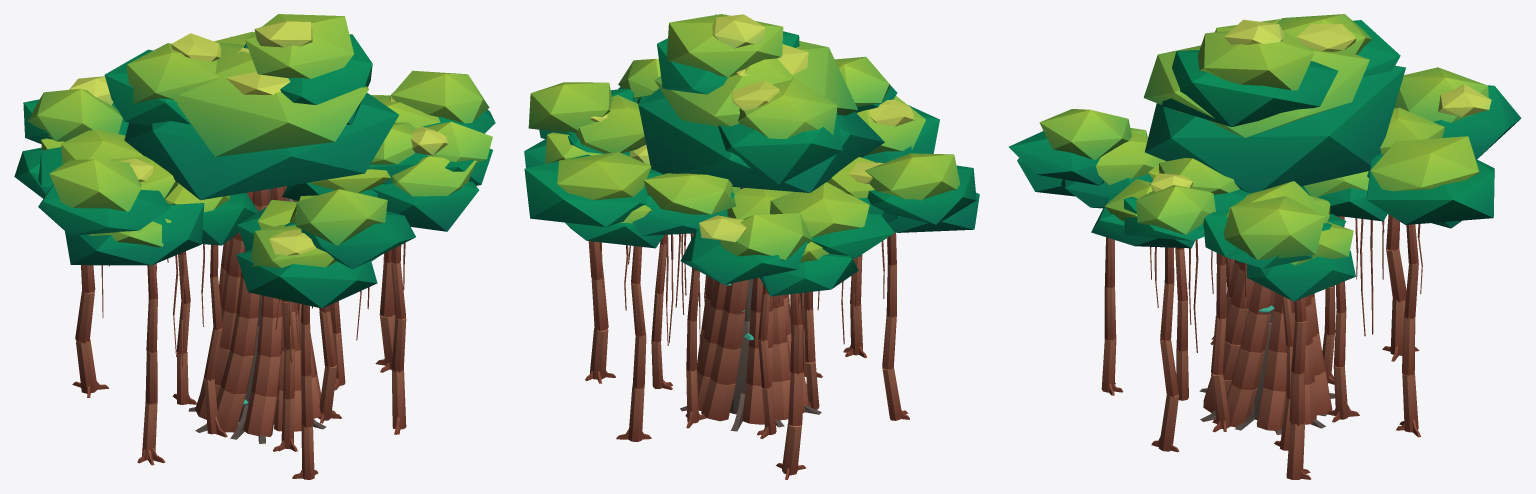
The model's file is grove_tree_a.glb.
3 renders of one model, left to right at view 1: azimuth 30°, elevation 25°; view 2: azimuth 150°, elevation 25°; view 3: azimuth 270°, elevation 25°, orthographic. The views are drawn at different scales.
Visible parts, largest first — view 1: grove_tree_a; view 2: grove_tree_a; view 3: grove_tree_a.
Boxes of the visible parts, left/top/right/bottom form: grove_tree_a: left=14, top=14, right=495, bottom=479; grove_tree_a: left=524, top=14, right=979, bottom=479; grove_tree_a: left=1009, top=14, right=1521, bottom=479.
Bounding box in the file's own units: 36.02 × 30.2 × 35.62.
1 material, 1 textured.
